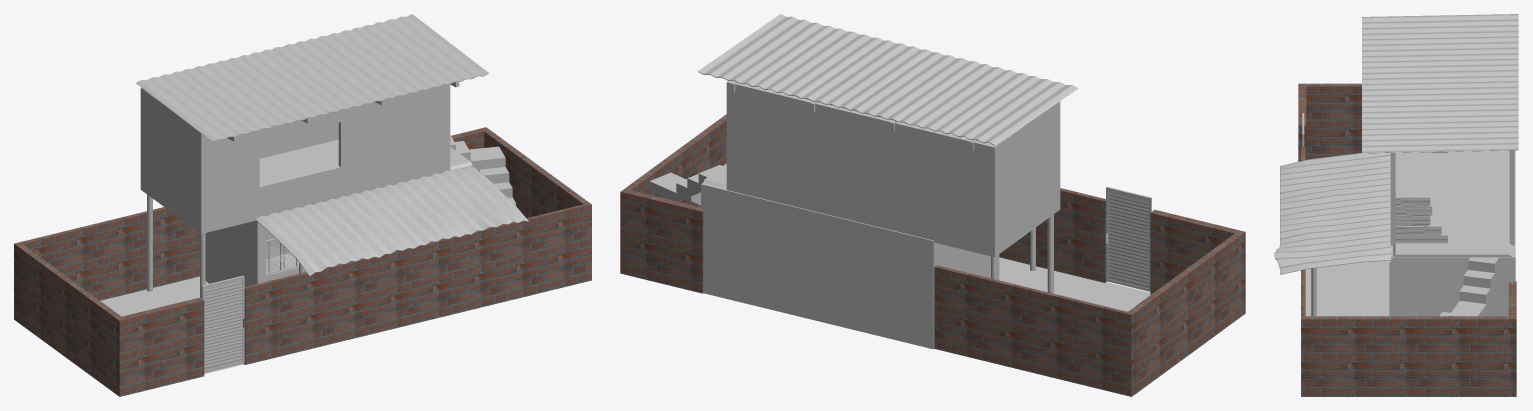
Rendered from CASA 36.fbx.
3 views of the same model, side by side, from view 1: azimuth 30°, elevation 25°; view 2: azimuth 150°, elevation 25°; view 3: azimuth 270°, elevation 25° (orthographic). The views are drawn at different scales.
Parts seen in each view (by area): view 1: 36; view 2: 36; view 3: 36.
Boxes of the visible parts, x1,y1,x2,y2 form: 36: (14, 14, 591, 396); 36: (620, 14, 1245, 396); 36: (1274, 14, 1518, 396).
Size of the model in its own units: 1389 by 580 by 609.
